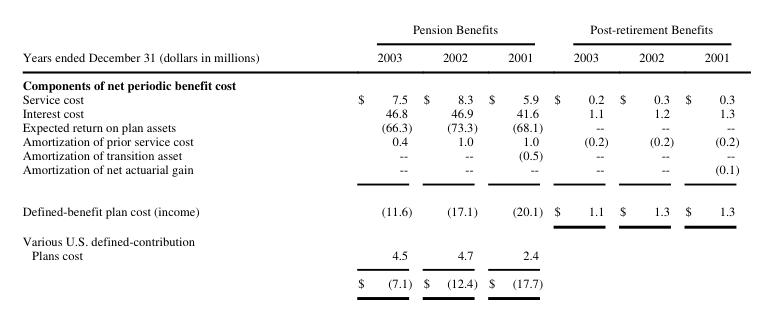table: (21, 19, 738, 290)
table column: (21, 19, 307, 290), (307, 19, 416, 290), (416, 19, 482, 290), (547, 19, 613, 290), (482, 19, 547, 290), (613, 19, 678, 290), (678, 19, 738, 290)
table column header: (21, 19, 738, 70)
table projected row header: (21, 70, 738, 91), (21, 225, 738, 246)
table row: (21, 189, 738, 225), (21, 42, 738, 70), (21, 161, 738, 189), (21, 19, 738, 42), (21, 267, 738, 290), (21, 70, 738, 91), (21, 225, 738, 246), (21, 246, 738, 267), (21, 91, 738, 105), (21, 105, 738, 119), (21, 119, 738, 133), (21, 133, 738, 147), (21, 147, 738, 161)
table spanning cell: (21, 19, 307, 70), (307, 19, 547, 42), (547, 19, 738, 42)
